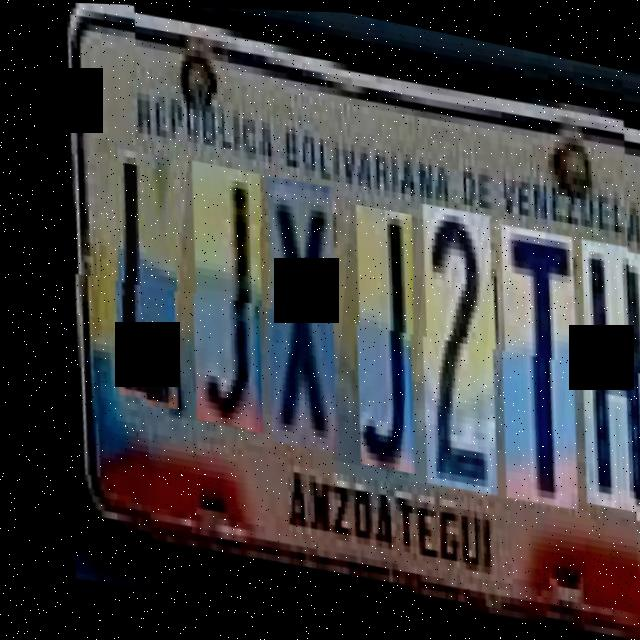2: (366, 199, 528, 496)
H: (525, 233, 640, 516)
J: (138, 157, 294, 435), (301, 200, 445, 474)
L: (63, 143, 205, 412)
T: (444, 219, 607, 509)
X: (215, 171, 368, 454)
